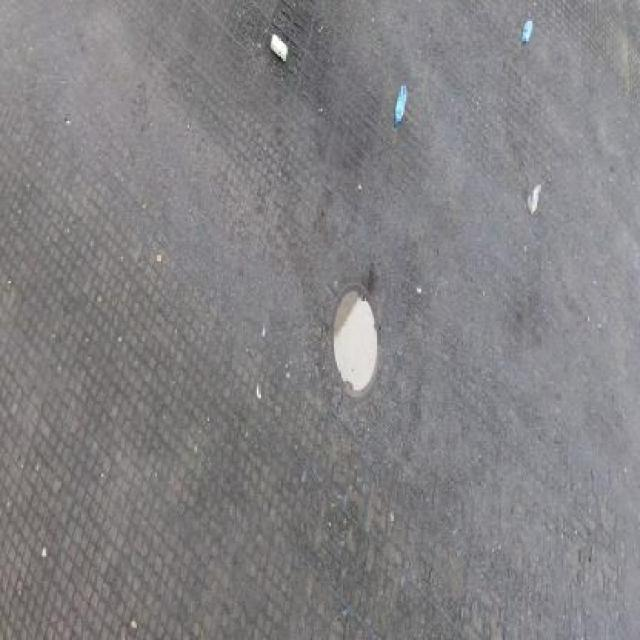Garbage: (270, 33, 288, 63), (394, 85, 407, 126), (526, 185, 540, 214), (522, 18, 533, 43)
